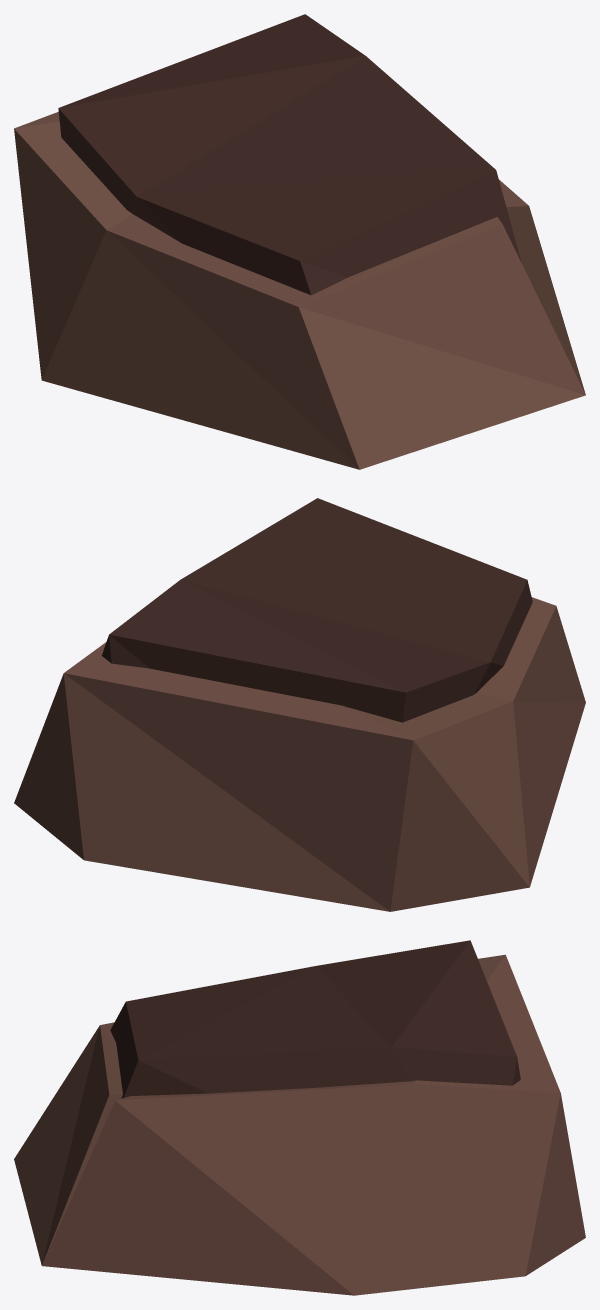
The model's file is Brown_rock_008.fbx.
3 views of the same model, one above another, from view 1: azimuth 30°, elevation 25°; view 2: azimuth 150°, elevation 25°; view 3: azimuth 270°, elevation 25° (orthographic). The views are drawn at different scales.
Visible parts, largest first — view 1: Brown_rock_008; view 2: Brown_rock_008; view 3: Brown_rock_008.
Boxes of the visible parts, x1,y1,x2,y2 form: Brown_rock_008: (14, 14, 585, 469); Brown_rock_008: (14, 498, 585, 911); Brown_rock_008: (14, 940, 585, 1295).
Bounding box in the file's own units: 159 × 188 × 80.36.
